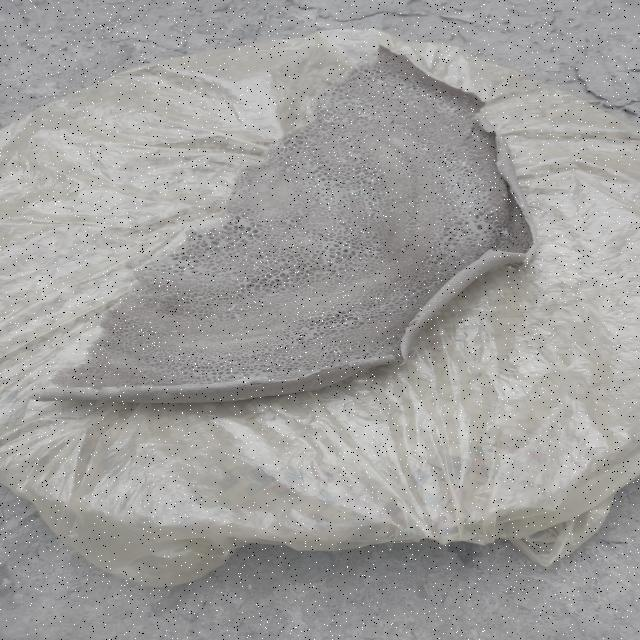injera_mold: (356, 111, 376, 121), (452, 157, 470, 168), (322, 112, 339, 123), (436, 105, 457, 113), (498, 227, 512, 238), (442, 146, 456, 154), (351, 190, 363, 198), (333, 348, 343, 356), (455, 259, 467, 265), (483, 136, 491, 142), (319, 104, 326, 110), (422, 144, 429, 150), (441, 97, 449, 102), (372, 192, 381, 196), (410, 86, 417, 91), (391, 208, 398, 212), (303, 180, 310, 184), (364, 134, 370, 138), (379, 154, 386, 157), (399, 83, 404, 87), (436, 170, 442, 173), (416, 159, 421, 162), (369, 72, 374, 75), (290, 208, 293, 211), (239, 374, 243, 376), (272, 378, 276, 380), (249, 366, 252, 368), (274, 370, 277, 372), (281, 371, 284, 373), (321, 212, 324, 214), (334, 212, 336, 215), (247, 370, 249, 372)
